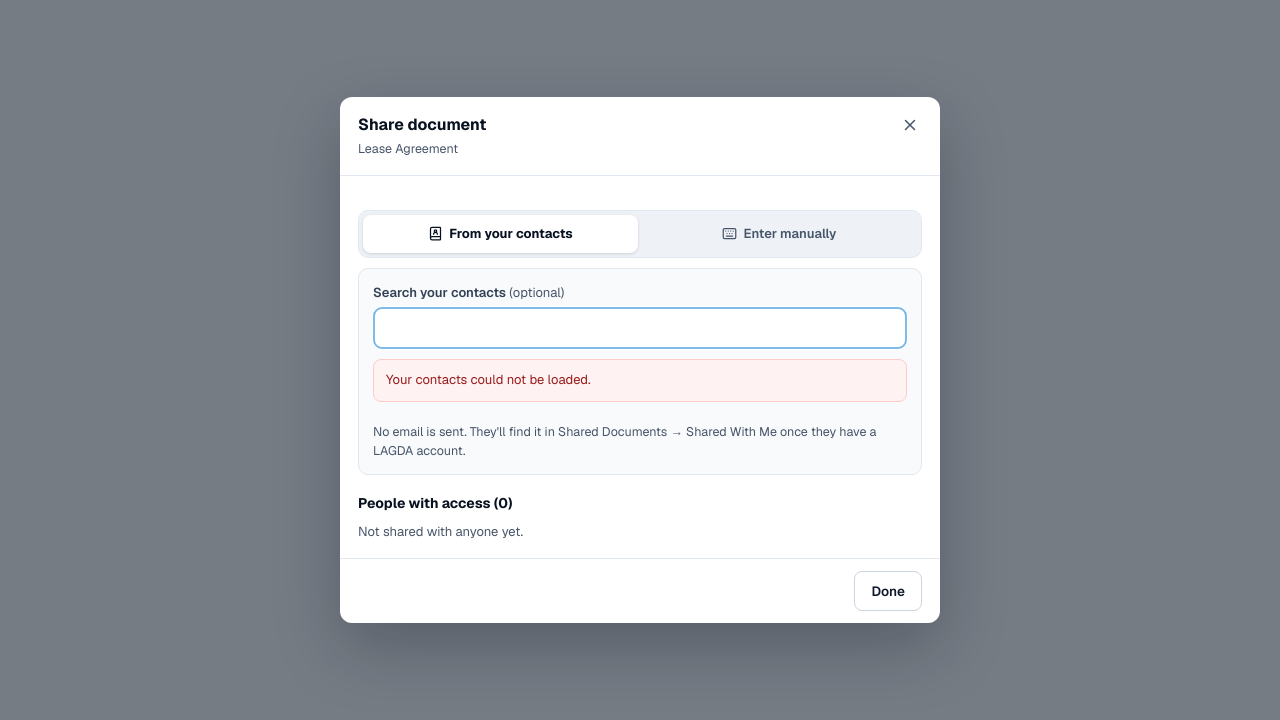
Test: ShareDocumentDialog › shares with an email and optional name, says nothing is emailed, and lists the new person
Click the tab with test id "add-way-manual": (780, 234) x1=642 y1=215 x2=917 y2=253
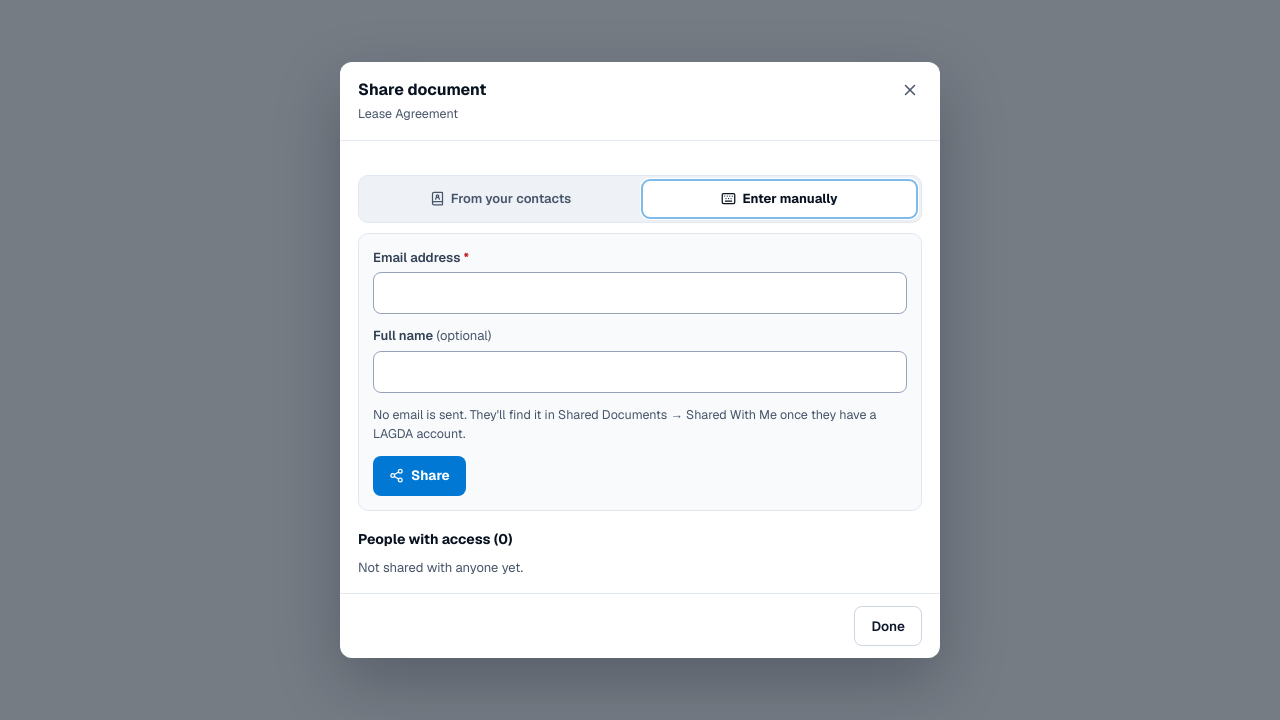
Expected: the text "No email is sent. They'll find it in Shared Documents → Shared With Me once they have a LAGDA account." is shown, x1=373 y1=406 x2=876 y2=442
Expected: the text "Not shared with anyone yet." is shown, x1=358 y1=558 x2=523 y2=576
Click the button "Share": (419, 476) x1=373 y1=456 x2=466 y2=496
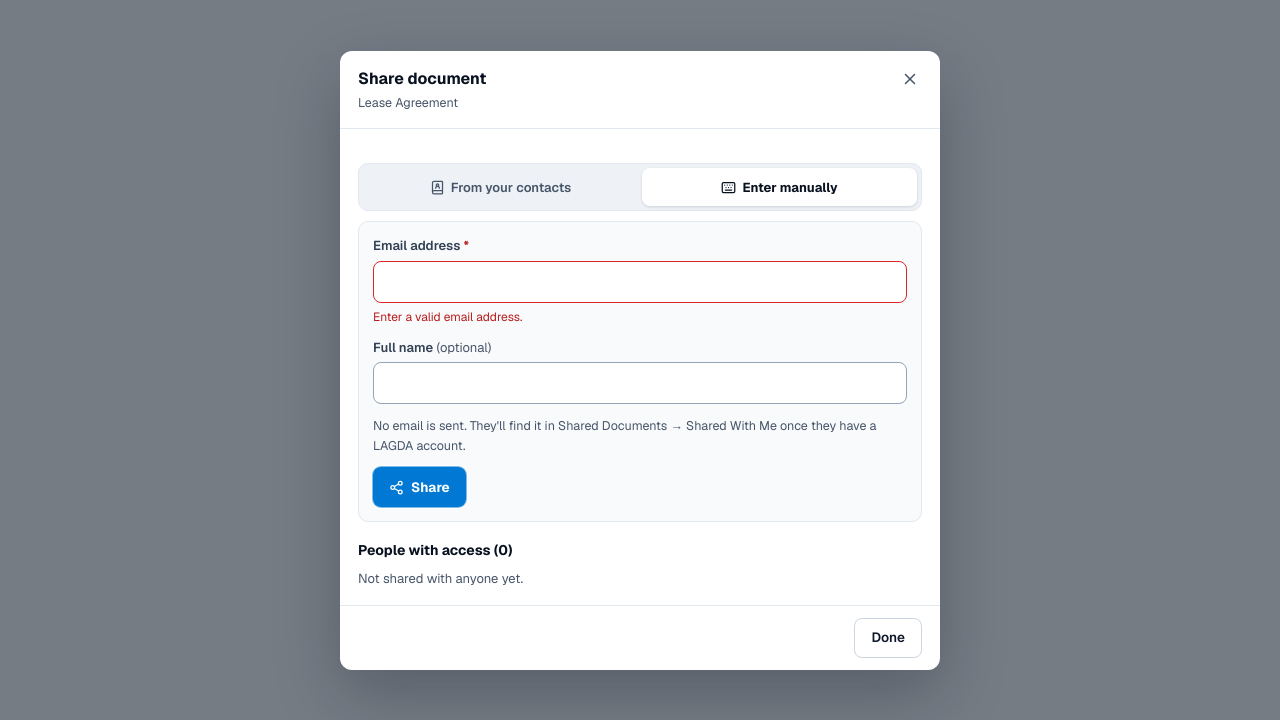
Expected: the text "Enter a valid email address." is shown, x1=373 y1=309 x2=522 y2=325
In the field labelled "Email address *": (640, 282) x1=373 y1=261 x2=907 y2=303, type "new@example.com"
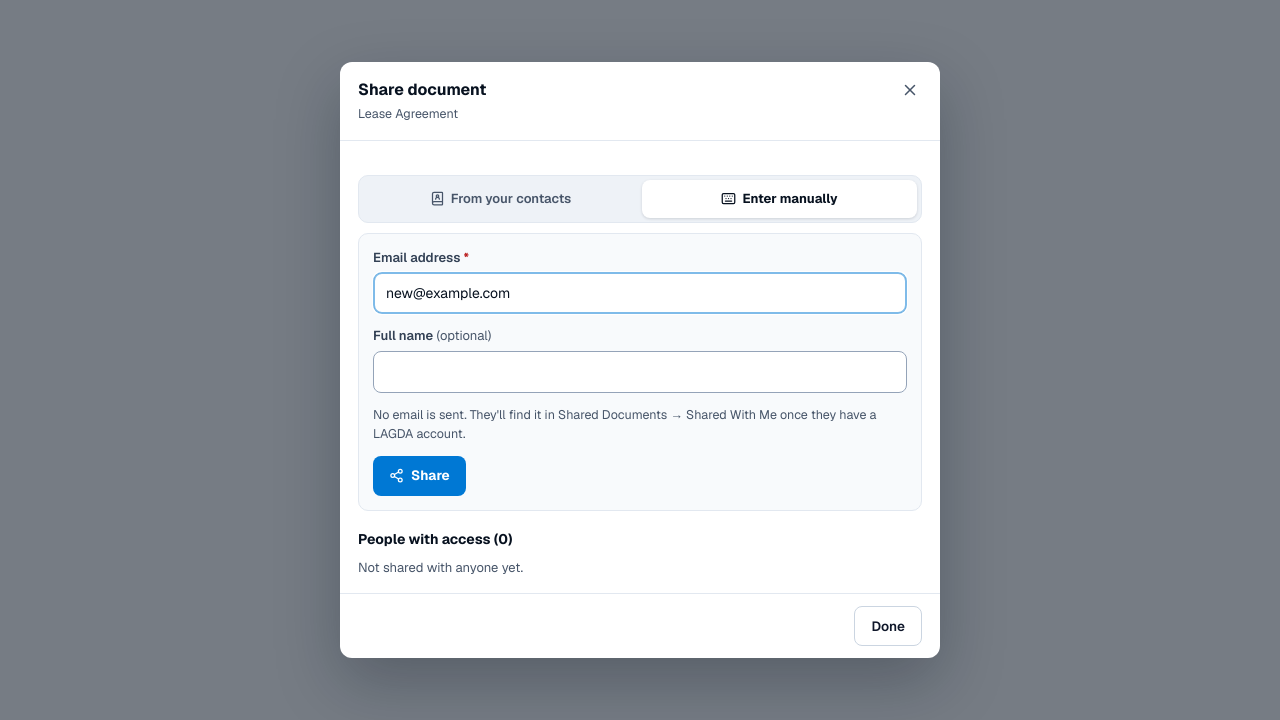
In the field labelled "Full name (optional)": (640, 372) x1=373 y1=351 x2=907 y2=393, type "New Person"
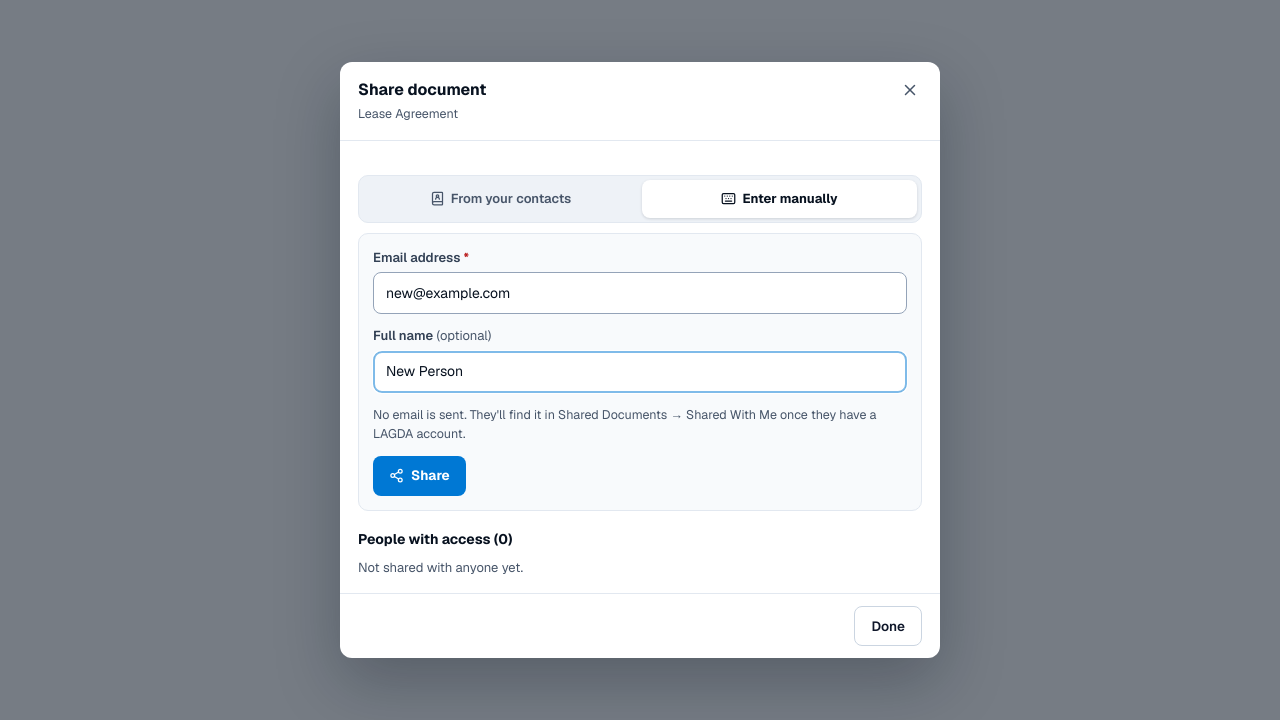
Click the button "Share": (419, 476) x1=373 y1=456 x2=466 y2=496
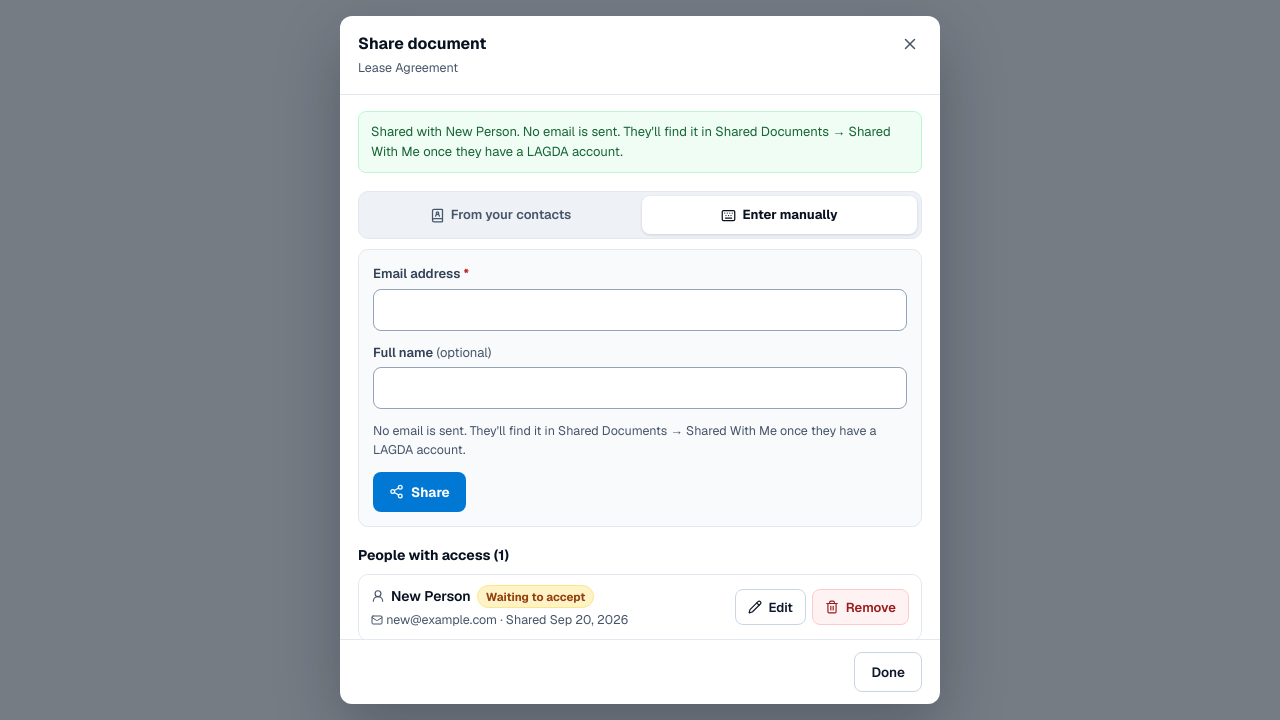
Expected: the text "New Person" is shown, x1=391 y1=586 x2=471 y2=607
Expected: the text "Waiting to accept" is shown, x1=477 y1=585 x2=594 y2=608
